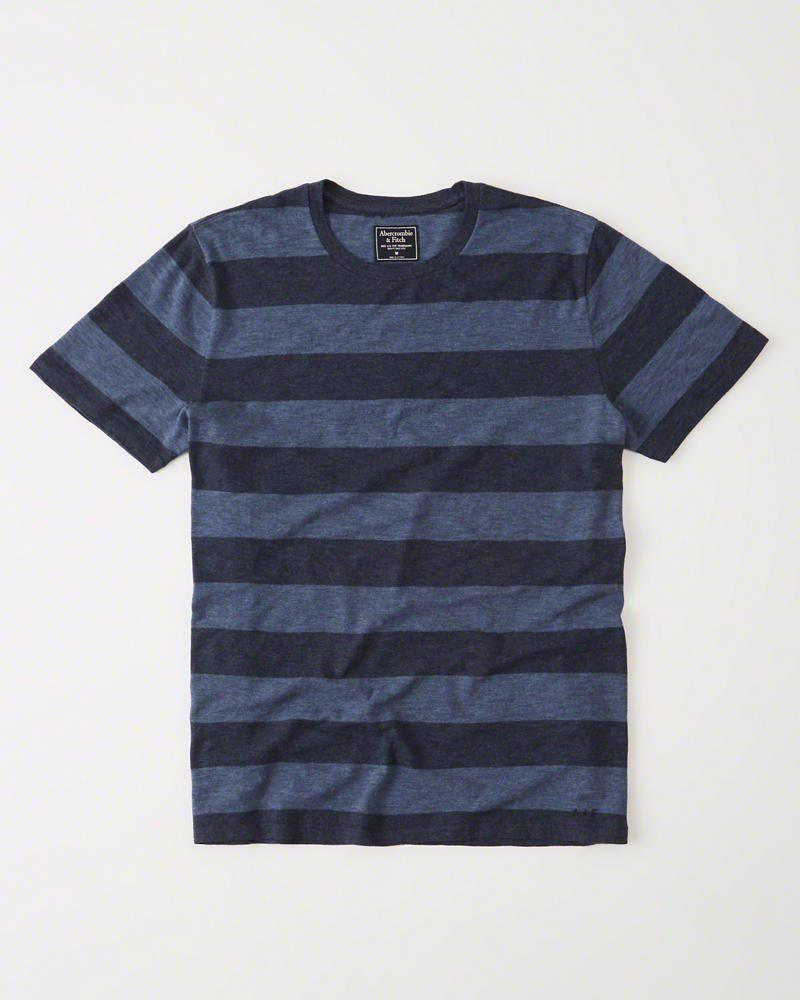teeshirt: (33, 169, 797, 895)
